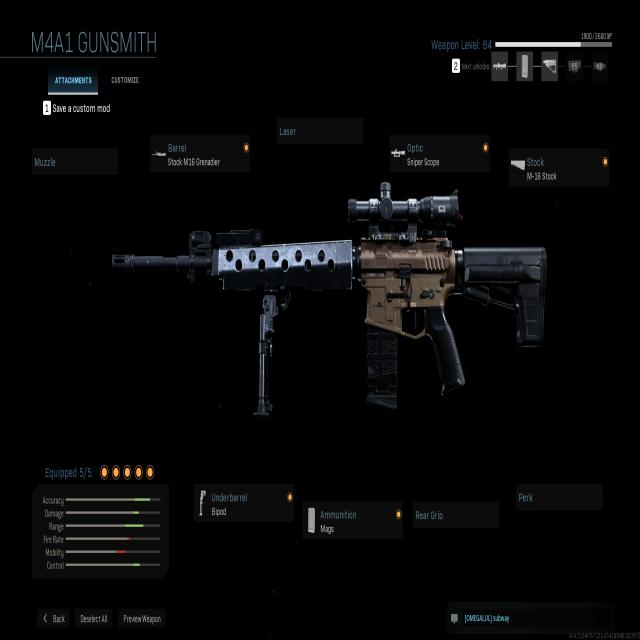Rifle: (111, 183, 548, 411)
